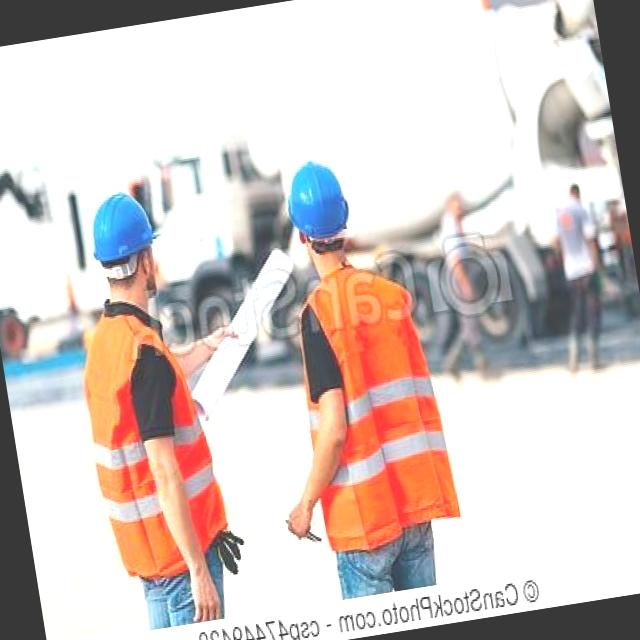helmet: (80, 184, 169, 287), (278, 154, 363, 255)
vest: (279, 248, 462, 540), (66, 283, 238, 582)
